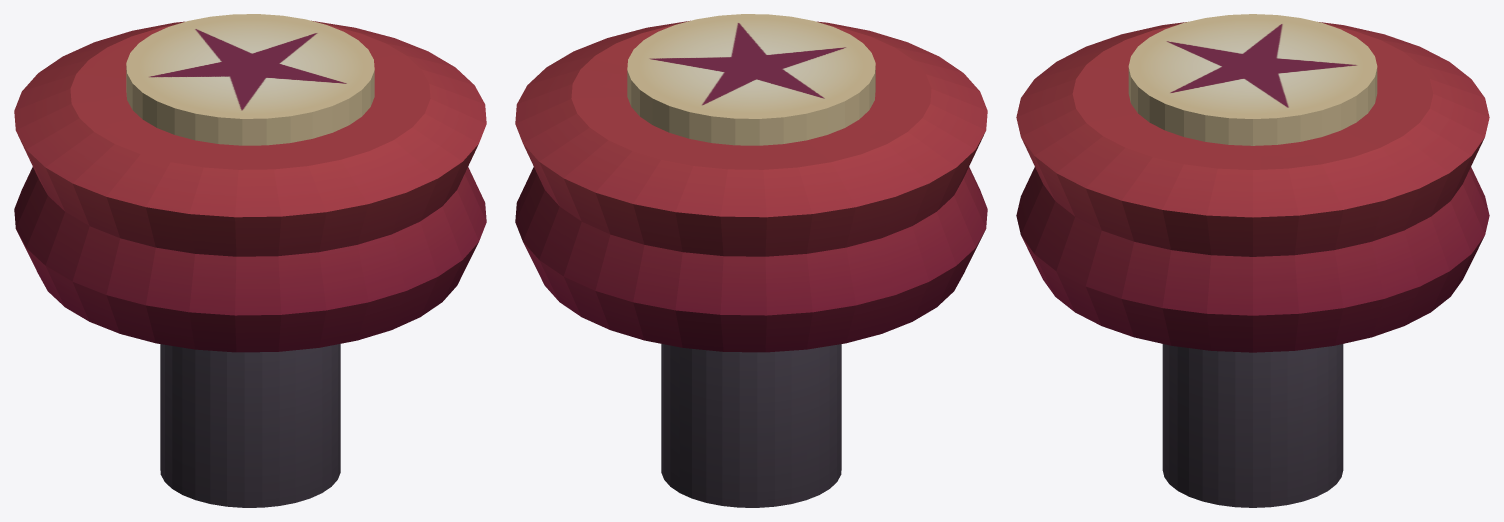
File: bumper.fbx
3 views of the same model, side by side, from view 1: azimuth 30°, elevation 25°; view 2: azimuth 150°, elevation 25°; view 3: azimuth 270°, elevation 25° (orthographic).
Visible parts, largest first — view 1: Cylinder.001, Cylinder; view 2: Cylinder.001, Cylinder; view 3: Cylinder.001, Cylinder.
Boxes of the visible parts, <box> form: Cylinder.001: <box>14,14,486,352</box>; Cylinder: <box>160,344,340,507</box>; Cylinder.001: <box>515,14,987,352</box>; Cylinder: <box>661,344,841,507</box>; Cylinder.001: <box>1016,14,1489,352</box>; Cylinder: <box>1162,344,1343,507</box>.
Bounding box in the file's own units: 702 × 659 × 702.
1 material, 1 textured.
